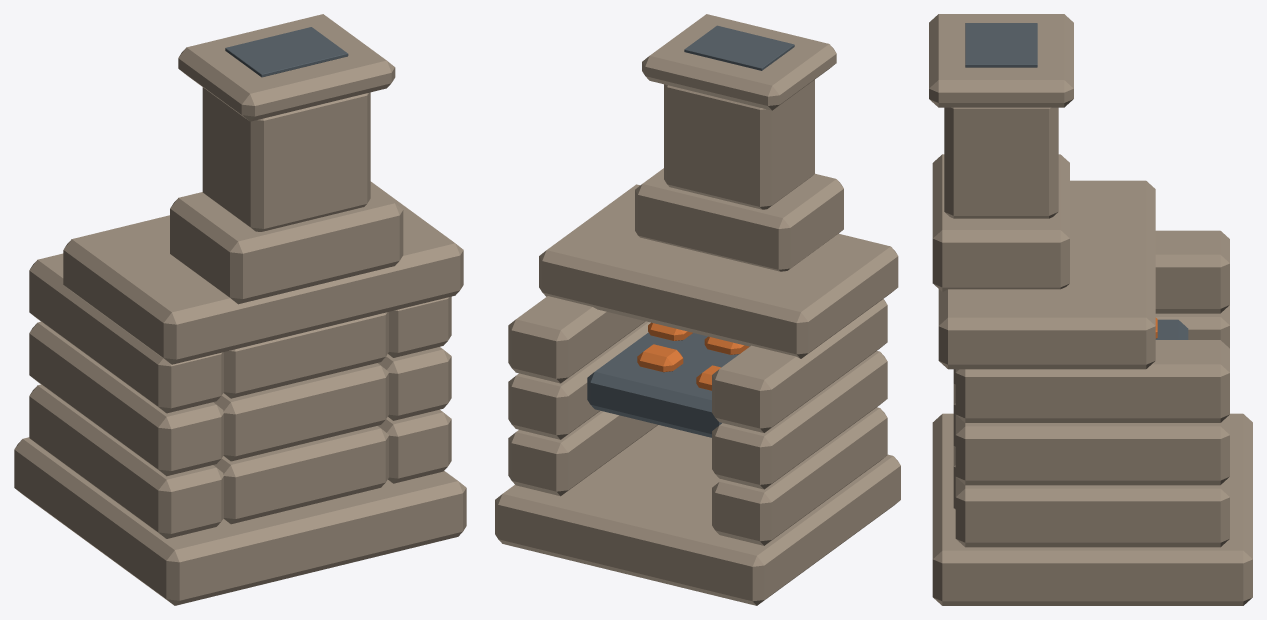
The model's file is smith_forge.glb.
The picture shows the model from 3 angles, left to right: view 1: azimuth 30°, elevation 25°; view 2: azimuth 150°, elevation 25°; view 3: azimuth 270°, elevation 25°; orthographic projection. The views are drawn at different scales.
Visible parts, largest first — view 1: smith_forge; view 2: smith_forge; view 3: smith_forge.
Boxes of the visible parts, x1,y1,x2,y2 form: smith_forge: (14,14,466,605); smith_forge: (495,14,900,605); smith_forge: (929,14,1252,605).
Size of the model in its own units: 0.9 by 1.43 by 0.85.
